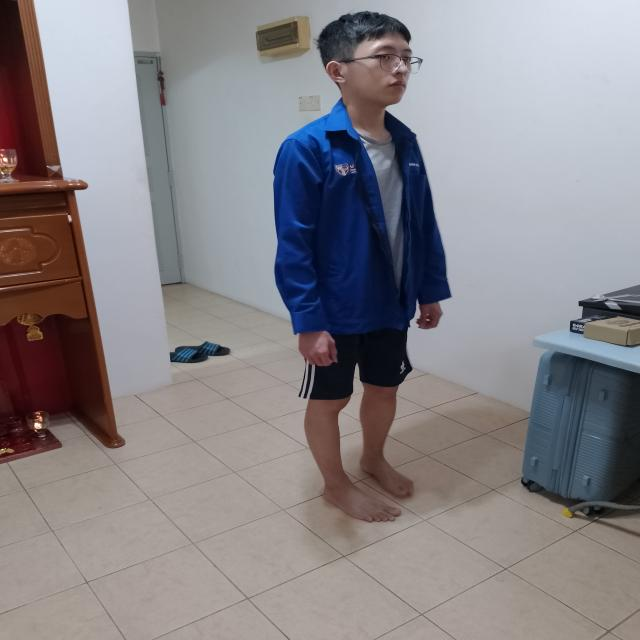person_with_labcoat: (274, 12, 450, 522)
